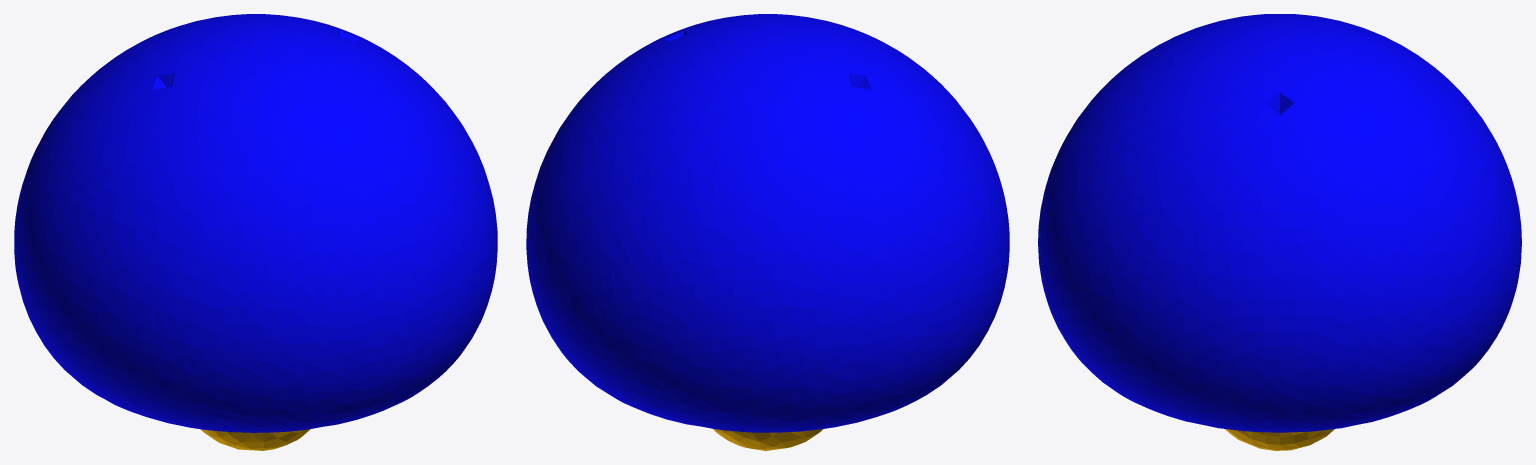
3 views of the same model, side by side, from view 1: azimuth 30°, elevation 25°; view 2: azimuth 150°, elevation 25°; view 3: azimuth 270°, elevation 25° (orthographic).
Size of the model in its own units: 11.77 by 10.88 by 11.76.
